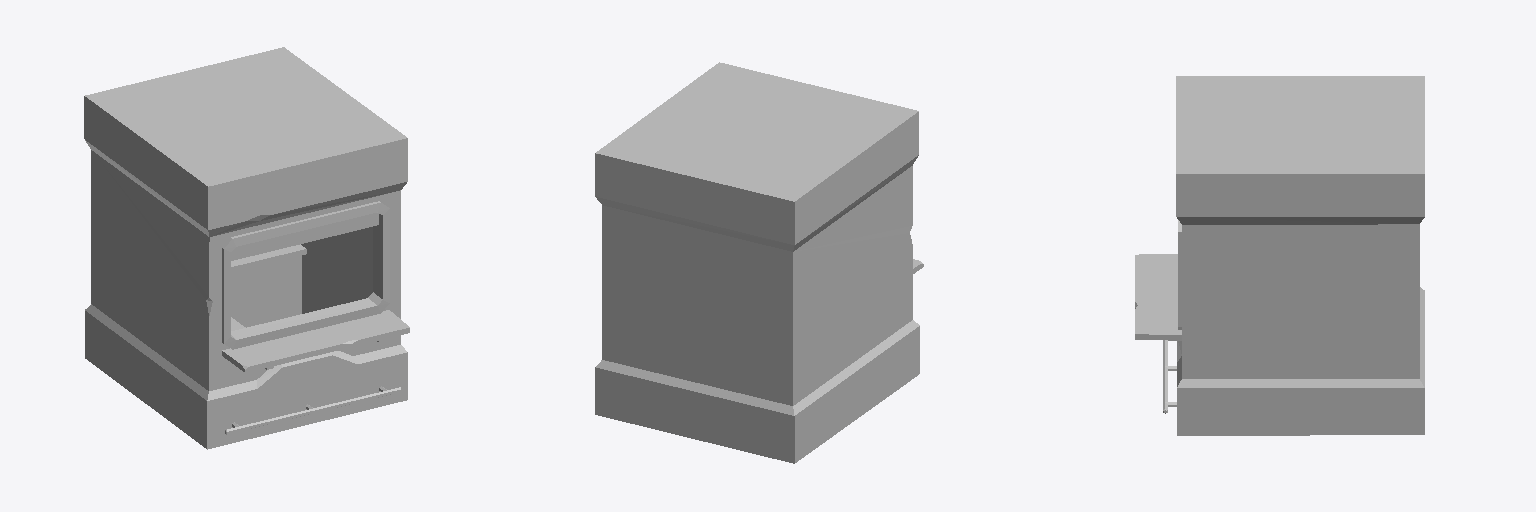
Rendered from SciFi_FoodHole.obj.
The picture shows the model from 3 angles: view 1: azimuth 30°, elevation 25°; view 2: azimuth 150°, elevation 25°; view 3: azimuth 270°, elevation 25°; orthographic projection.
Visible parts, largest first — view 1: SM_Bld_FoodHole_01; view 2: SM_Bld_FoodHole_01; view 3: SM_Bld_FoodHole_01.
Boxes of the visible parts, x1=… form: SM_Bld_FoodHole_01: x1=84, y1=47, x2=409, y2=449; SM_Bld_FoodHole_01: x1=595, y1=62, x2=923, y2=463; SM_Bld_FoodHole_01: x1=1135, y1=76, x2=1424, y2=435.
Size of the model in its own units: 0.8 by 1 by 1.